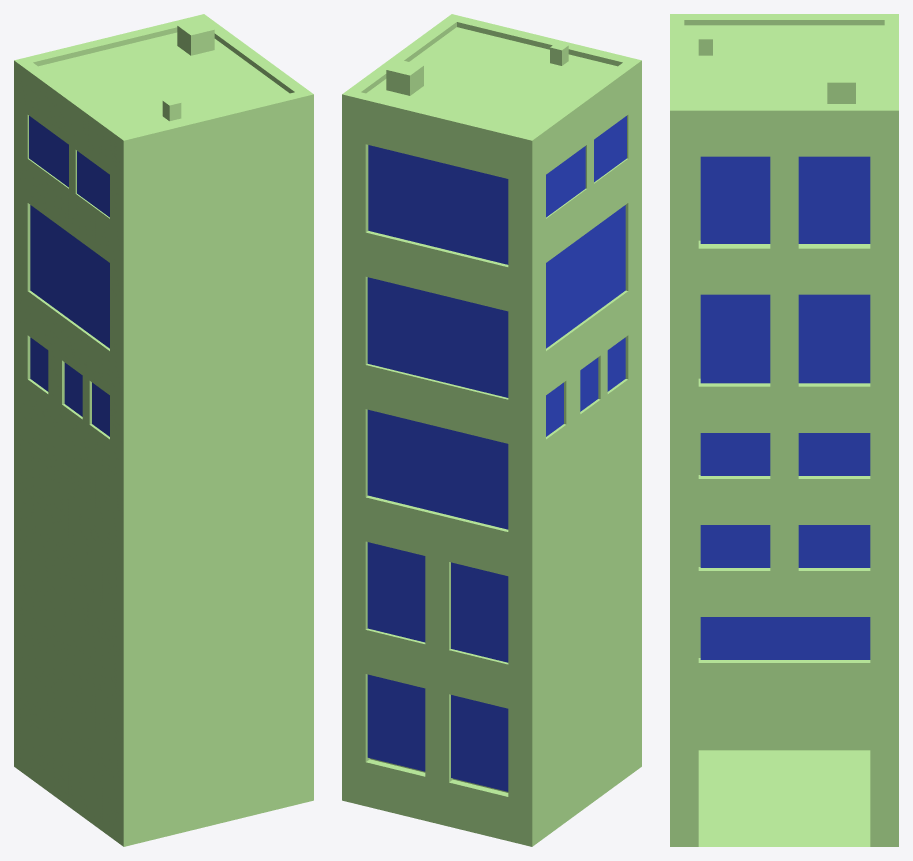
File: edificio.fbx
The picture shows the model from 3 angles, left to right: view 1: azimuth 30°, elevation 25°; view 2: azimuth 150°, elevation 25°; view 3: azimuth 270°, elevation 25°; orthographic projection. The views are drawn at different scales.
Parts seen in each view (by area): view 1: Estructura, ventana 9.002, ventana 9.001, ventana 9.003; view 2: Estructura, ventana 1, ventana 2, ventana, ventana 3, ventana 4, ventana 9.002, ventana 9.001, ventana 9.003; view 3: Estructura, ventana 6, ventana 5, ventana 9, ventana 7, ventana 8.
Boxes of the visible parts, x1,y1,x2,y2 form: Estructura: (14, 14, 313, 846); ventana 9.002: (30, 205, 109, 348); ventana 9.001: (29, 116, 109, 217); ventana 9.003: (30, 337, 109, 436); Estructura: (342, 14, 641, 846); ventana 1: (367, 277, 508, 397); ventana 2: (367, 409, 508, 529); ventana: (368, 145, 508, 264); ventana 3: (367, 542, 508, 662); ventana 4: (367, 674, 508, 791); ventana 9.002: (546, 205, 625, 348); ventana 9.001: (546, 116, 626, 217); ventana 9.003: (546, 337, 625, 436); Estructura: (670, 14, 898, 846); ventana 6: (700, 294, 870, 383); ventana 5: (700, 156, 870, 243); ventana 9: (700, 617, 870, 659); ventana 7: (700, 433, 870, 475); ventana 8: (700, 525, 870, 567).
Bounding box in the file's own units: 946 × 3432 × 946.
